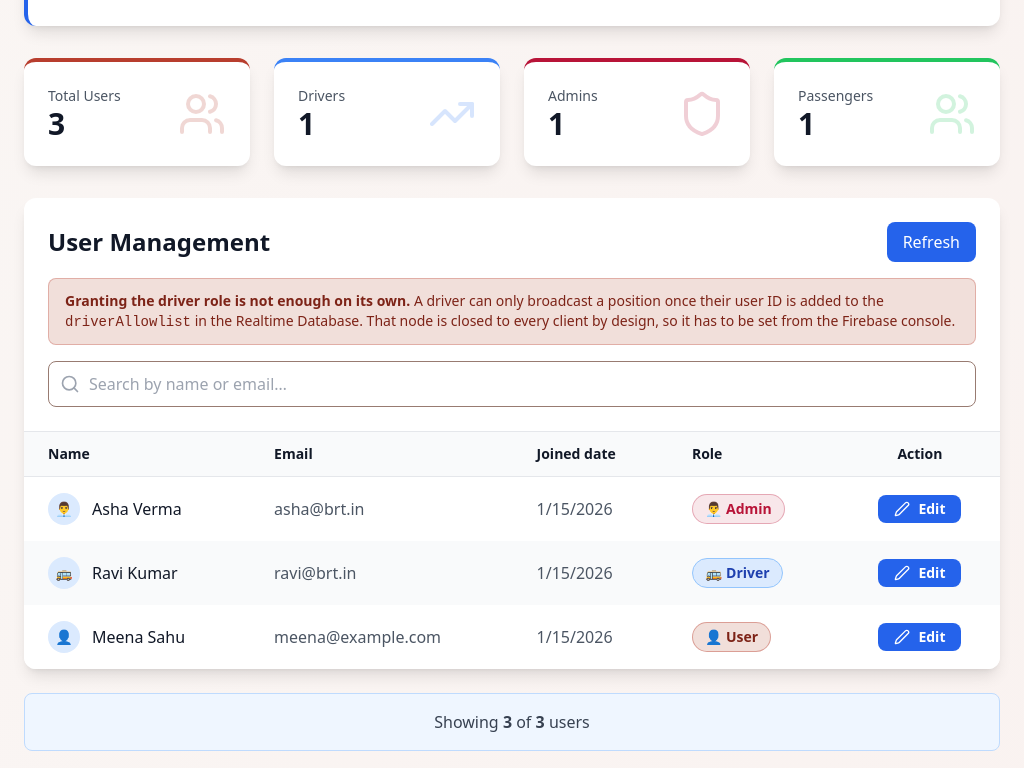
searching the roster › names the term that matched nothing
(page scrolled)
Type "zzz" into the search field named "Search users by name or email". click: (512, 384)
box: [48,361,976,407]
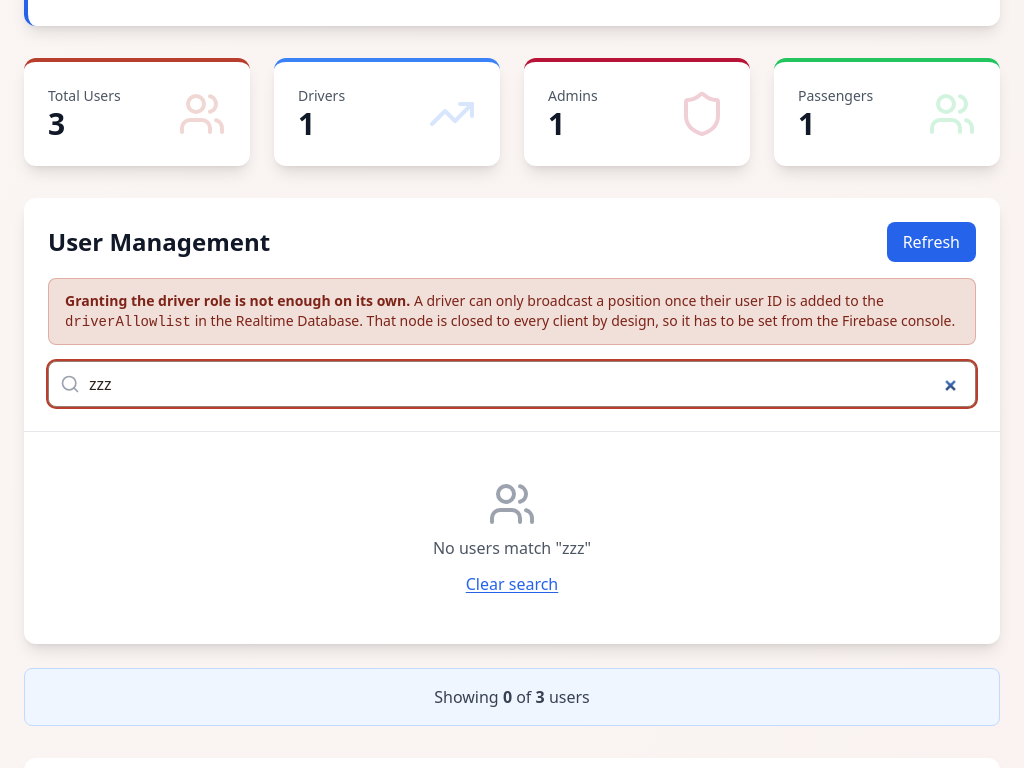
Check: the text "No users match \"zzz\"" is shown, box [433,537,591,559]
